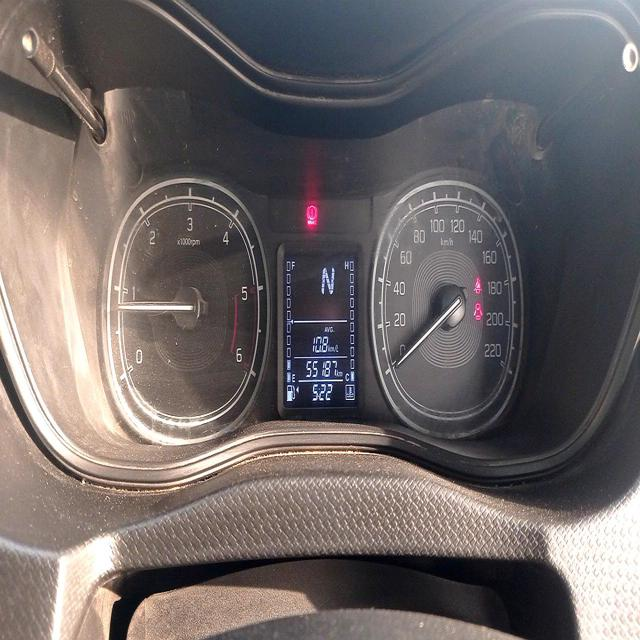odometer: (305, 356, 339, 383)
